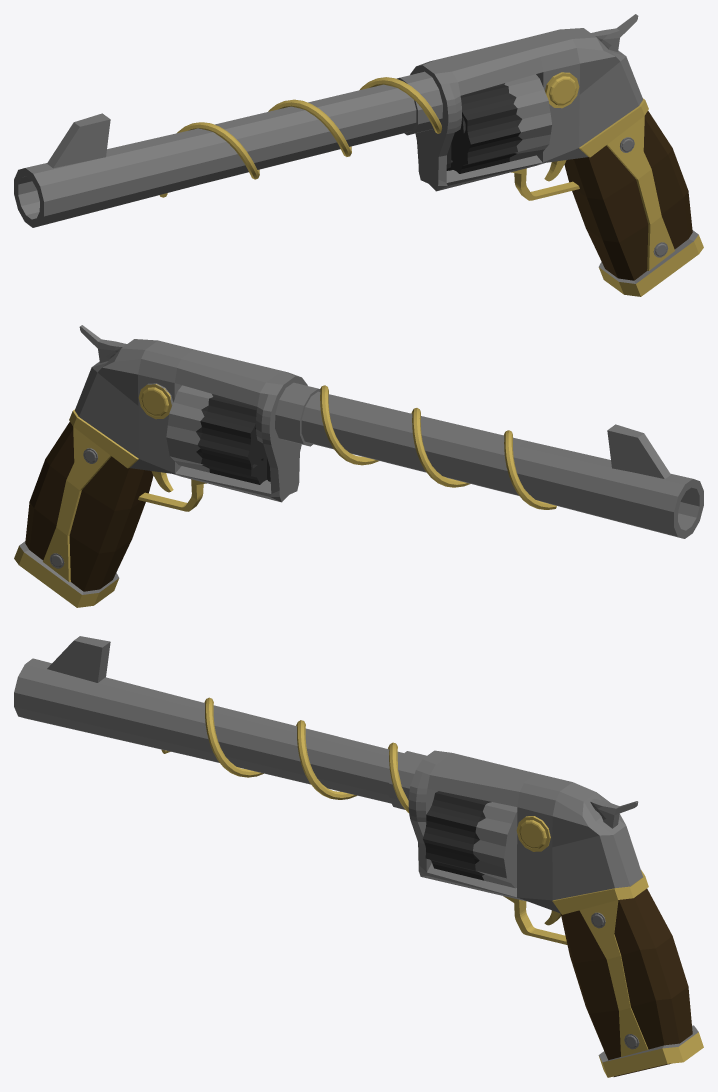
The model's file is revolver.fbx.
3 renders of one model, top to bottom at view 1: azimuth 30°, elevation 25°; view 2: azimuth 150°, elevation 25°; view 3: azimuth 330°, elevation 25°, orthographic.
Parts seen in each view (by area): view 1: Revolver; view 2: Revolver; view 3: Revolver.
Part boxes in pixels (x1,y1,x2,y2): Revolver: [14, 14, 703, 296]; Revolver: [14, 325, 703, 607]; Revolver: [14, 636, 703, 1077].
Bounding box in the file's own units: 311 × 132 × 38.63.
